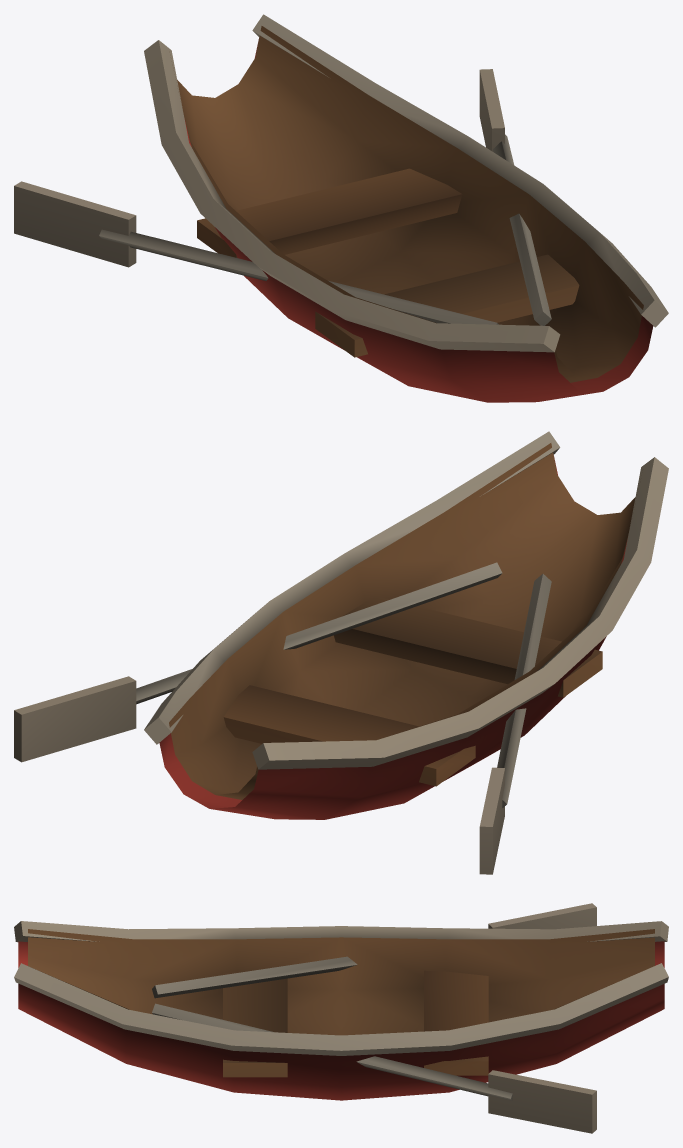
Rendered from HD_Dinghy_Red.glb.
3 views of the same model, one above another, from view 1: azimuth 30°, elevation 25°; view 2: azimuth 150°, elevation 25°; view 3: azimuth 270°, elevation 25° (orthographic). The views are drawn at different scales.
Parts seen in each view (by area): view 1: HD_Dinghy_Red_1_Wood; view 2: HD_Dinghy_Red_1_Wood; view 3: HD_Dinghy_Red_1_Wood.
Part boxes in pixels (left/top/right/bottom): HD_Dinghy_Red_1_Wood: left=14, top=14, right=668, bottom=402; HD_Dinghy_Red_1_Wood: left=14, top=431, right=668, bottom=874; HD_Dinghy_Red_1_Wood: left=14, top=903, right=668, bottom=1133.
Bounding box in the file's own units: 6.31 × 2.2 × 9.12.
